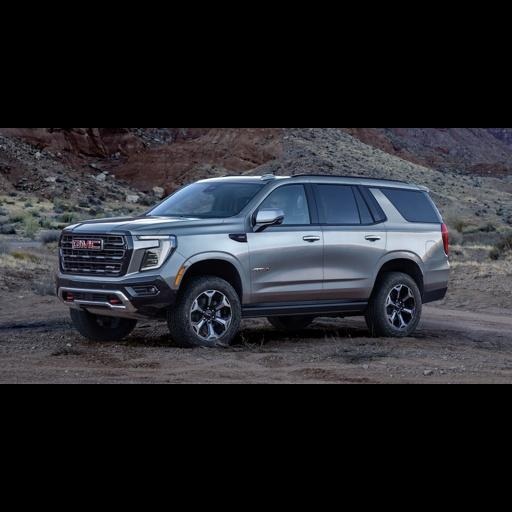suv: (54, 175, 448, 345)
